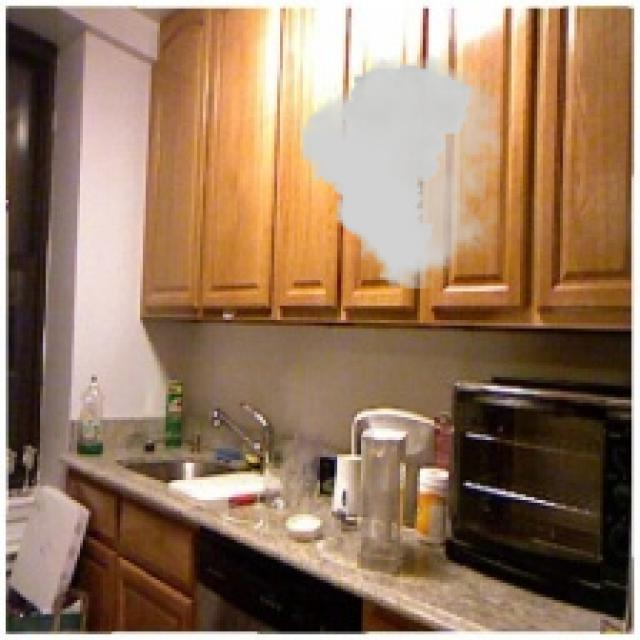smoke: (300, 54, 503, 289)
